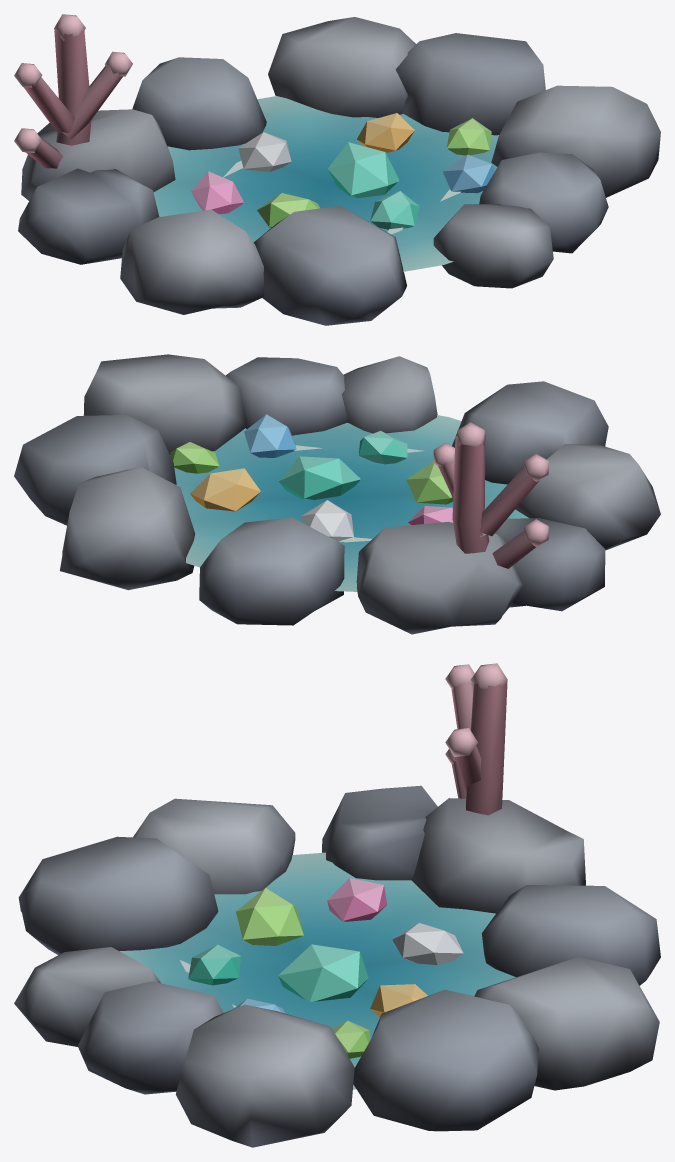
Rendered from prop-scav-seaGlass-full.glb.
The picture shows the model from 3 angles, top to bottom: view 1: azimuth 30°, elevation 25°; view 2: azimuth 150°, elevation 25°; view 3: azimuth 270°, elevation 25°; orthographic projection. The views are drawn at different scales.
Parts seen in each view (by area): view 1: body; view 2: body; view 3: body.
Part boxes in pixels (left/top/right/bottom): body: left=14, top=14, right=660, bottom=325; body: left=14, top=354, right=660, bottom=634; body: left=14, top=663, right=660, bottom=1147.
Size of the model in its own units: 1.36 by 0.468 by 1.18.
